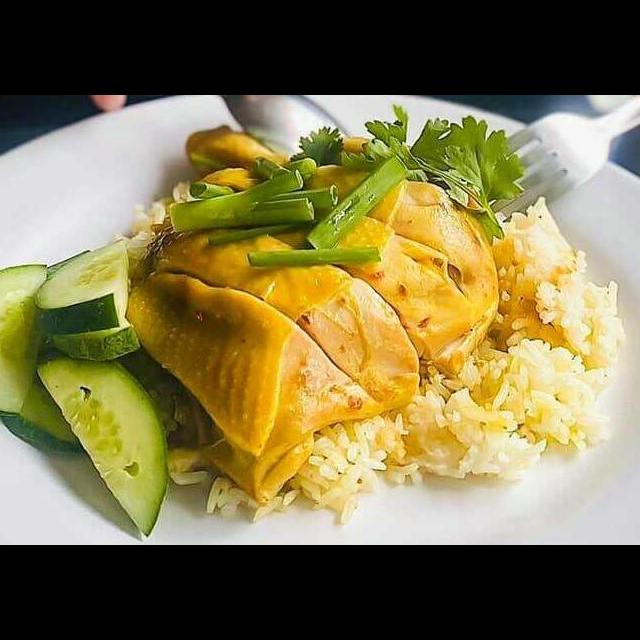com: (472, 192, 635, 457), (285, 386, 553, 528), (162, 457, 302, 521)
thit ga: (192, 155, 503, 386), (118, 262, 390, 505), (128, 222, 424, 415)
